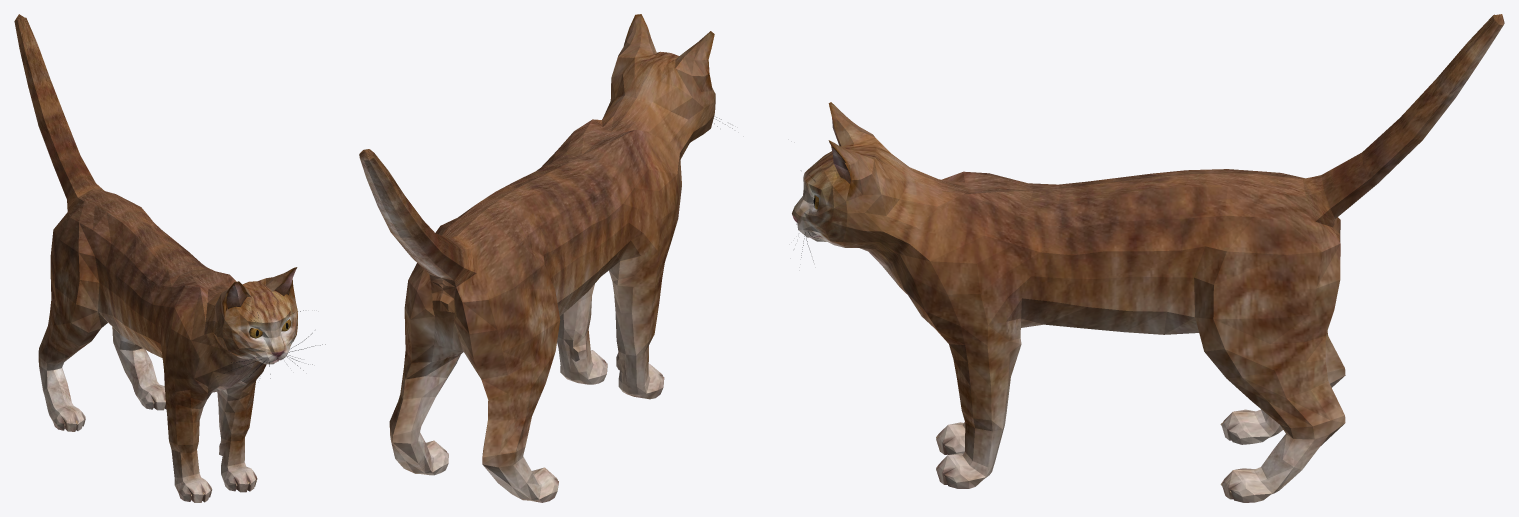
3 renders of one model, left to right at view 1: azimuth 30°, elevation 25°; view 2: azimuth 150°, elevation 25°; view 3: azimuth 270°, elevation 25°, orthographic. The views are drawn at different scales.
Visible parts, largest first — view 1: Object_GatoTextura.jpg; view 2: Object_GatoTextura.jpg; view 3: Object_GatoTextura.jpg.
Boxes of the visible parts, x1,y1,x2,y2 form: Object_GatoTextura.jpg: [14, 14, 325, 502]; Object_GatoTextura.jpg: [359, 14, 732, 502]; Object_GatoTextura.jpg: [792, 14, 1504, 502].
Size of the model in its own units: 0.6371 by 1.73 by 2.5.
Materials: 1 (1 with a texture image).
